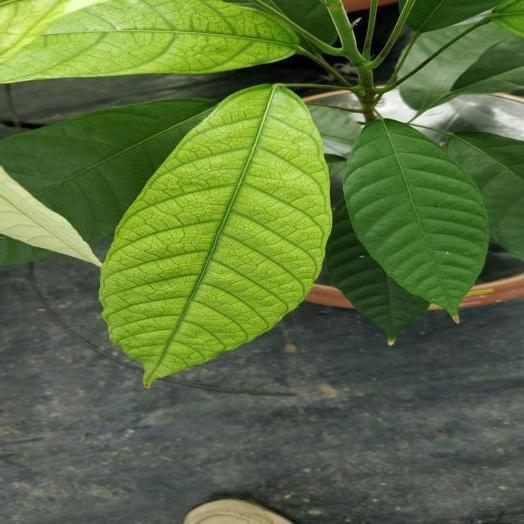Healthy Leaf: (0, 98, 215, 247), (344, 120, 487, 314), (327, 203, 427, 344), (396, 1, 523, 112), (447, 132, 523, 259)
Iron: (100, 87, 330, 385), (0, 0, 298, 83)
